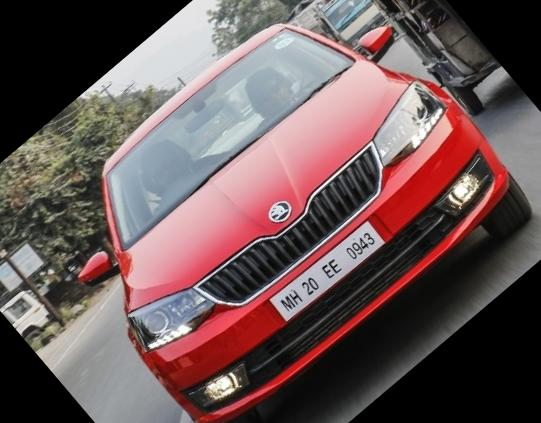plate: (260, 205, 404, 338)
